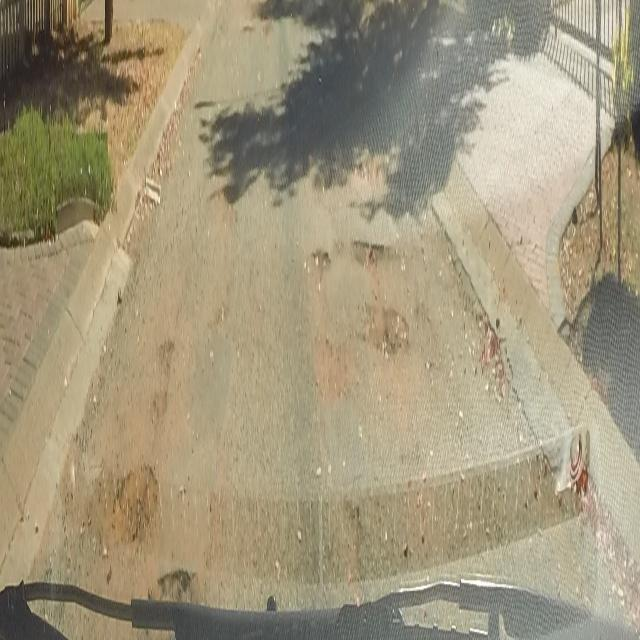pothole: (354, 294, 414, 358), (106, 452, 161, 518), (348, 234, 396, 270), (310, 246, 332, 274), (239, 22, 254, 34)
